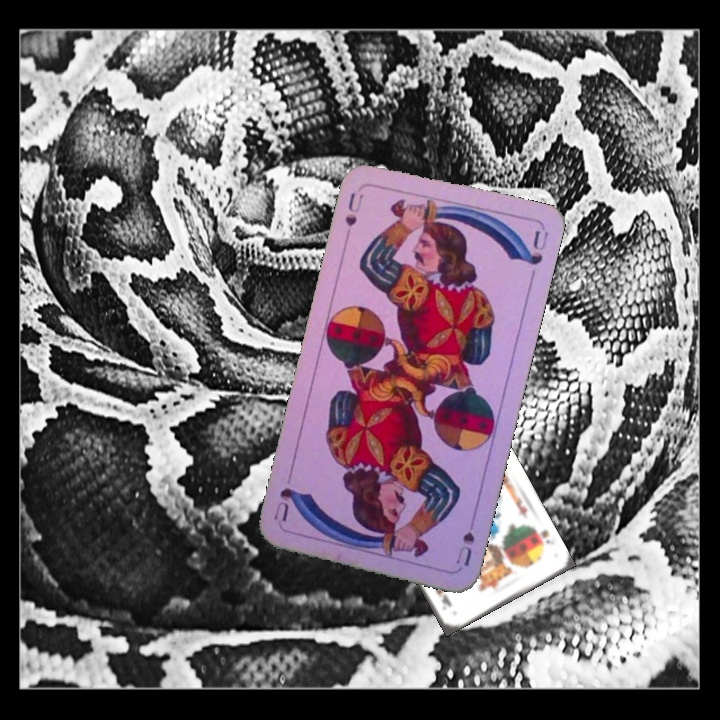SK: (529, 524, 557, 547)
SU: (452, 510, 479, 569), (340, 188, 366, 242)
